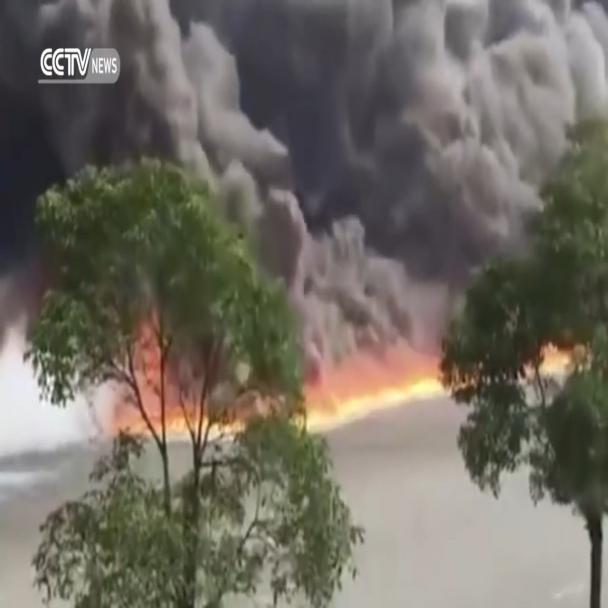Fire: (42, 269, 607, 528)
smoke: (49, 7, 607, 242)
